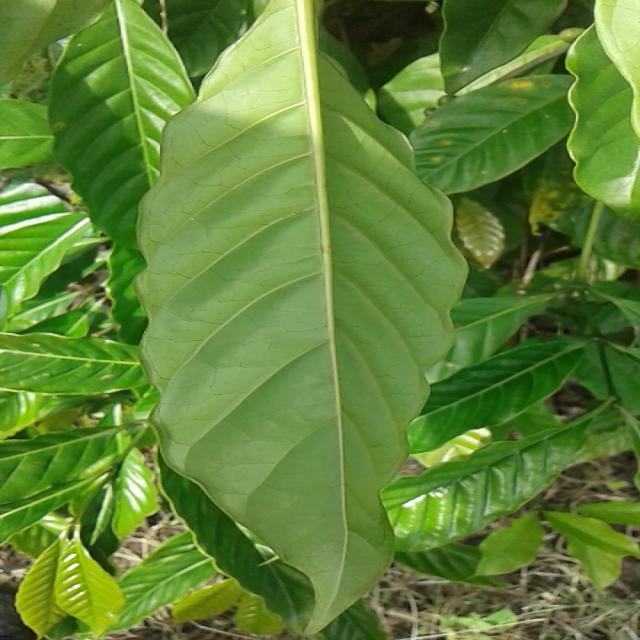Sanas: (138, 0, 468, 627)
